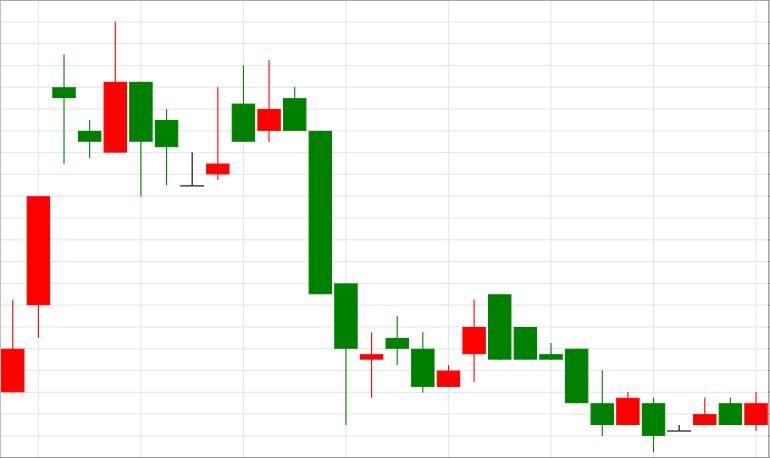inverse_hammer_rise: (489, 295, 614, 436)
shooting_star_fall: (181, 60, 281, 187)
